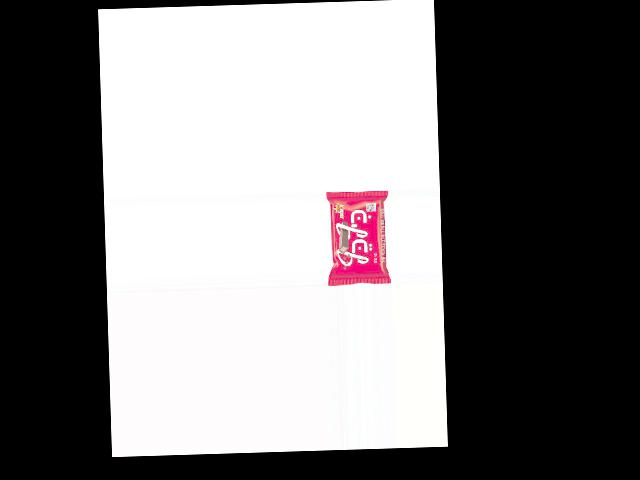chocolate: (325, 190, 392, 285)
